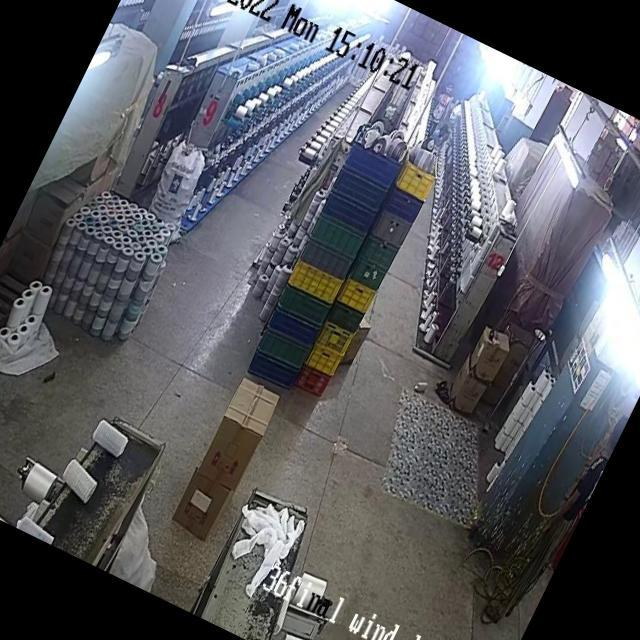person: (425, 83, 458, 130), (434, 122, 460, 156), (427, 120, 449, 150)
